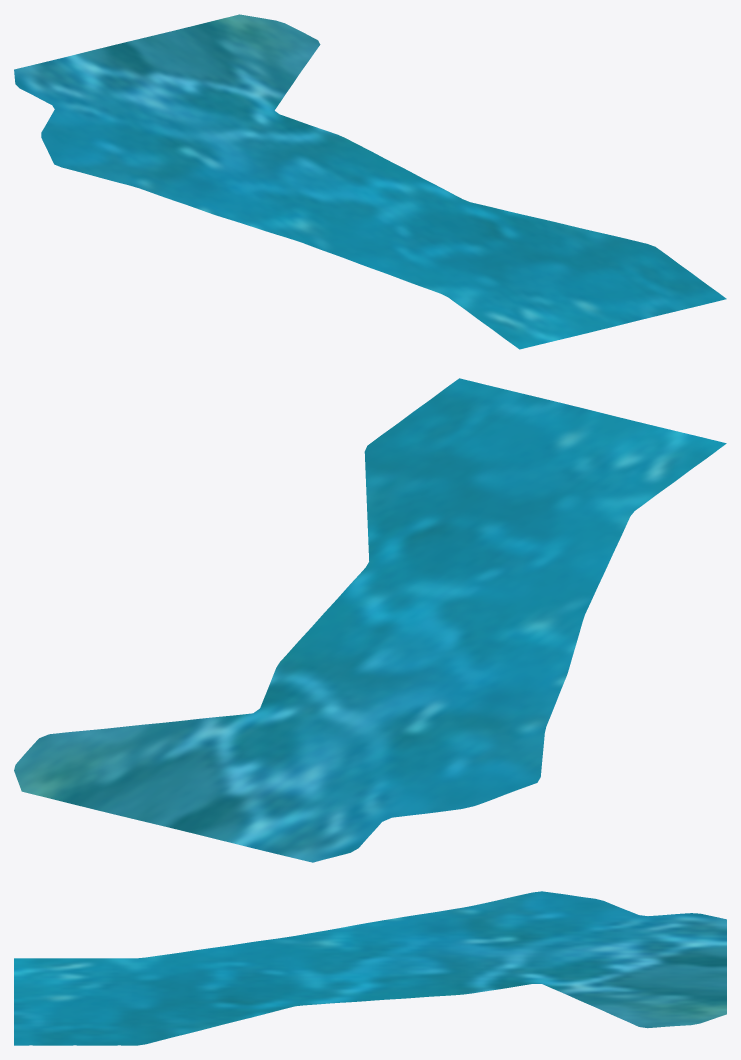
File: River_Main.glb
3 views of the same model, one above another, from view 1: azimuth 30°, elevation 25°; view 2: azimuth 150°, elevation 25°; view 3: azimuth 270°, elevation 25° (orthographic). The views are drawn at different scales.
Parts seen in each view (by area): view 1: River_Main; view 2: River_Main; view 3: River_Main.
Boxes of the visible parts, x1,y1,x2,y2 form: River_Main: (14, 14, 726, 349); River_Main: (14, 378, 726, 862); River_Main: (14, 891, 726, 1045).
Size of the model in its own units: 19.06 by 0.01 by 37.22.
1 material, 1 textured.
